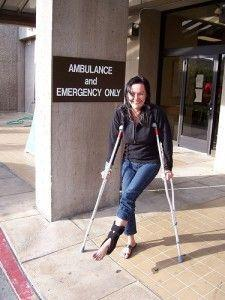crutches: (80, 75, 184, 264)
